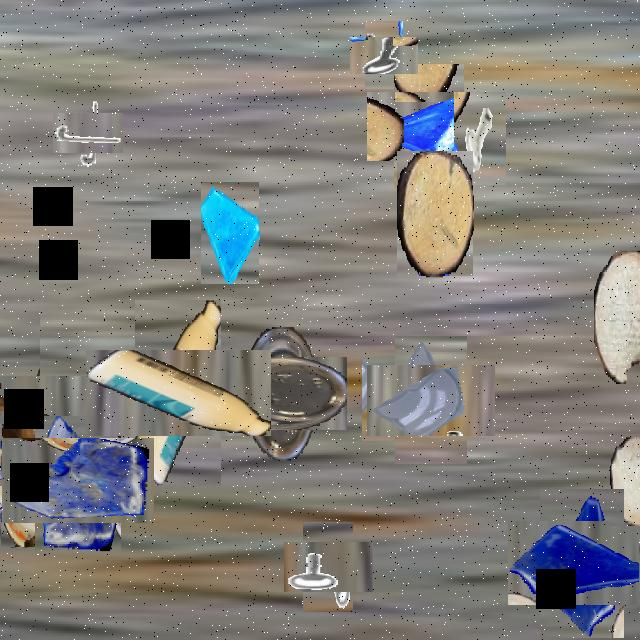glass: (18, 420, 138, 540), (523, 505, 640, 621), (381, 350, 481, 450), (380, 77, 478, 175), (201, 182, 259, 284)
metal: (293, 532, 363, 602), (454, 92, 506, 185), (362, 355, 410, 441), (60, 106, 116, 161), (358, 29, 410, 81)
plastic: (110, 325, 246, 461), (230, 342, 332, 444), (0, 343, 73, 450), (0, 454, 65, 533)
wood: (397, 151, 473, 276), (594, 251, 640, 382), (610, 438, 640, 526)
